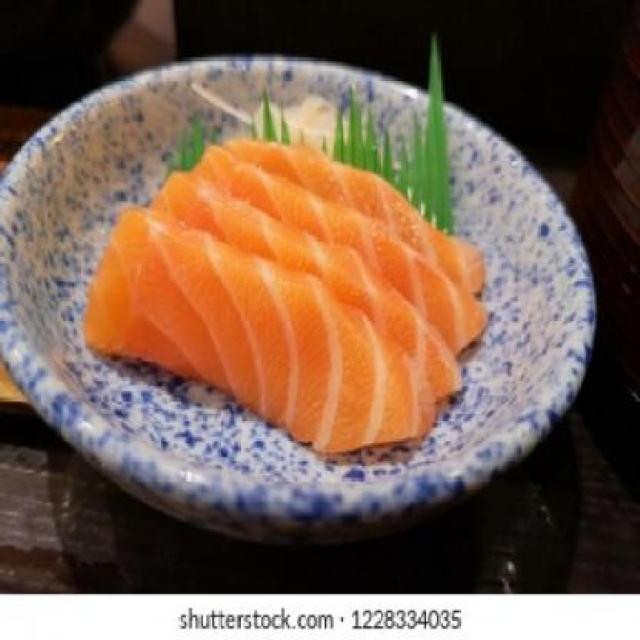salmon: (72, 118, 493, 471)
